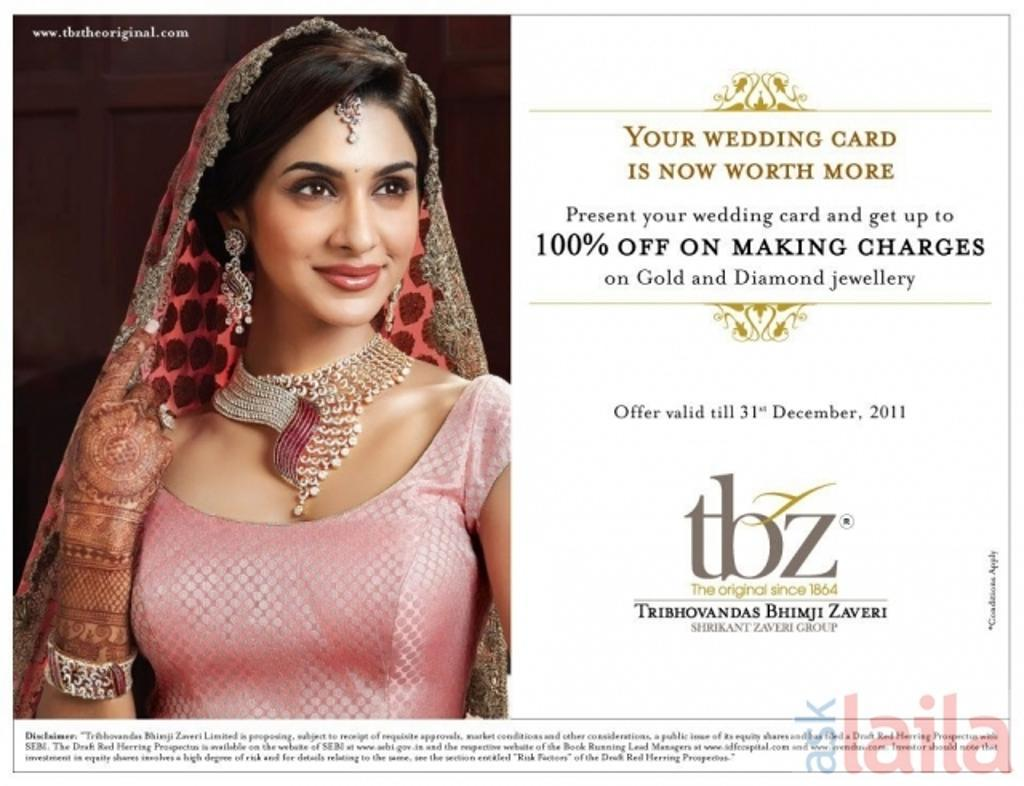face: (261, 105, 421, 331)
